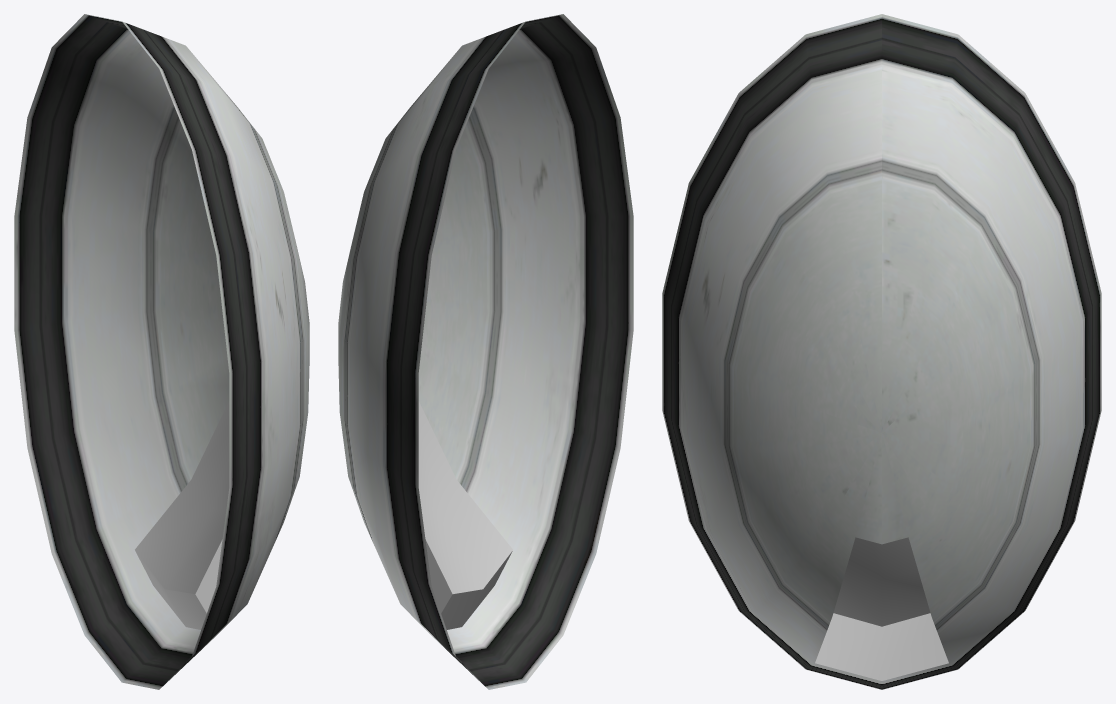
Rendered from STA20_light100.FBX.
The picture shows the model from 3 angles, left to right: view 1: azimuth 30°, elevation 25°; view 2: azimuth 150°, elevation 25°; view 3: azimuth 270°, elevation 25°; orthographic projection. The views are drawn at different scales.
Parts seen in each view (by area): view 1: STA20_light100; view 2: STA20_light100; view 3: STA20_light100.
Part boxes in pixels (left/top/right/bottom): STA20_light100: left=14, top=14, right=309, bottom=689; STA20_light100: left=338, top=14, right=633, bottom=689; STA20_light100: left=662, top=14, right=1101, bottom=689.
Size of the model in its own units: 0.4014 by 1.56 by 0.9204.
